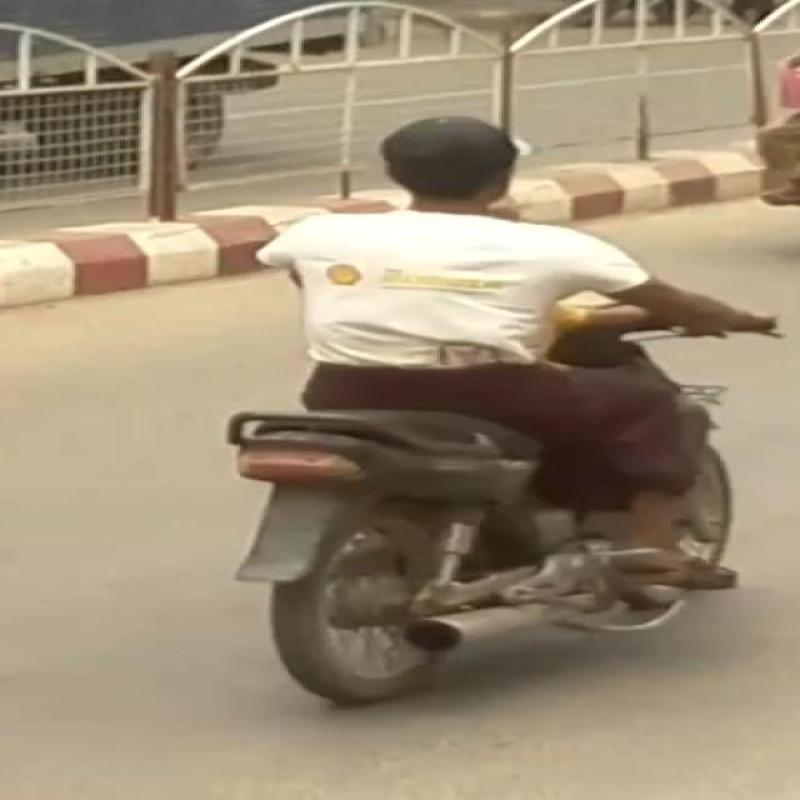nohelmet: (332, 107, 613, 227)
